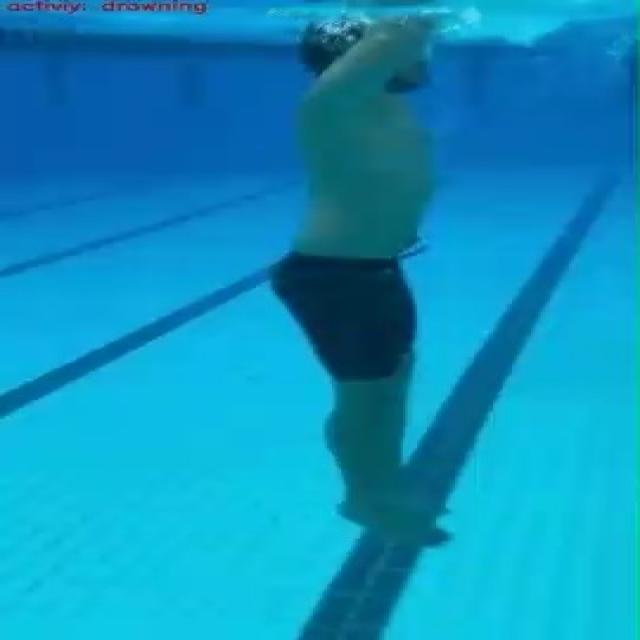Drowning: (264, 4, 490, 556)
